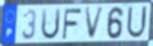3: (21, 8, 37, 41)
6: (106, 6, 125, 41)
F: (61, 7, 83, 40)
U: (125, 5, 148, 40), (40, 7, 62, 41)
V: (84, 6, 106, 41)
